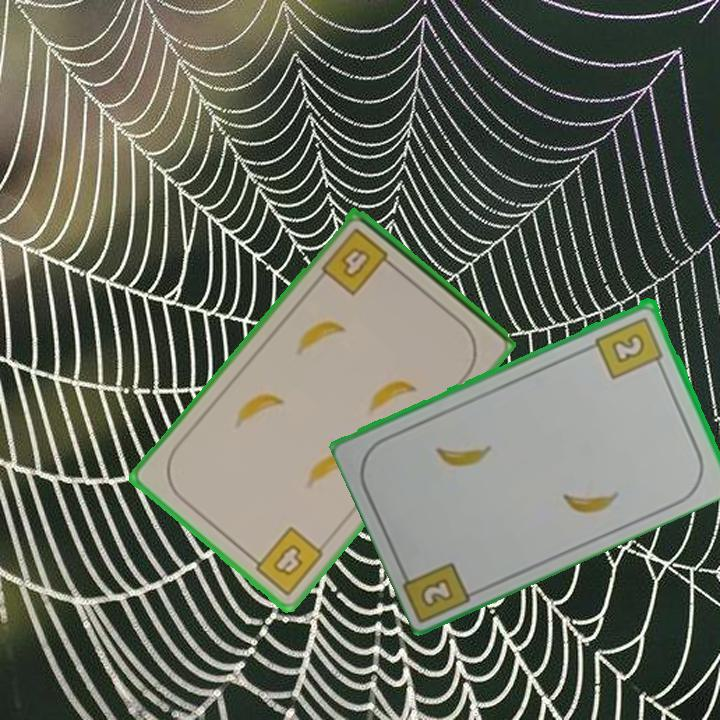2b: (592, 313, 666, 382), (416, 574, 457, 611)
4b: (244, 523, 327, 599), (318, 224, 399, 299)
